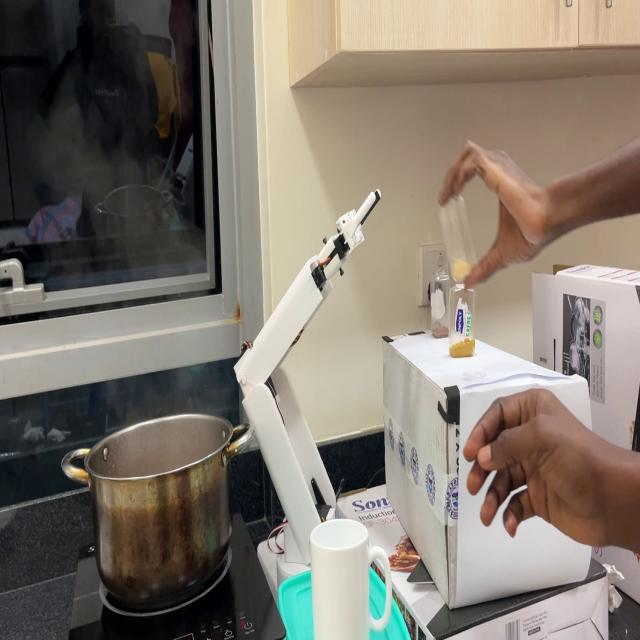cooking_pot: (61, 412, 254, 604)
curry_powder: (449, 339, 477, 360)
garlic_powder: (451, 258, 471, 286)
maggie_open: (434, 326, 449, 339)
